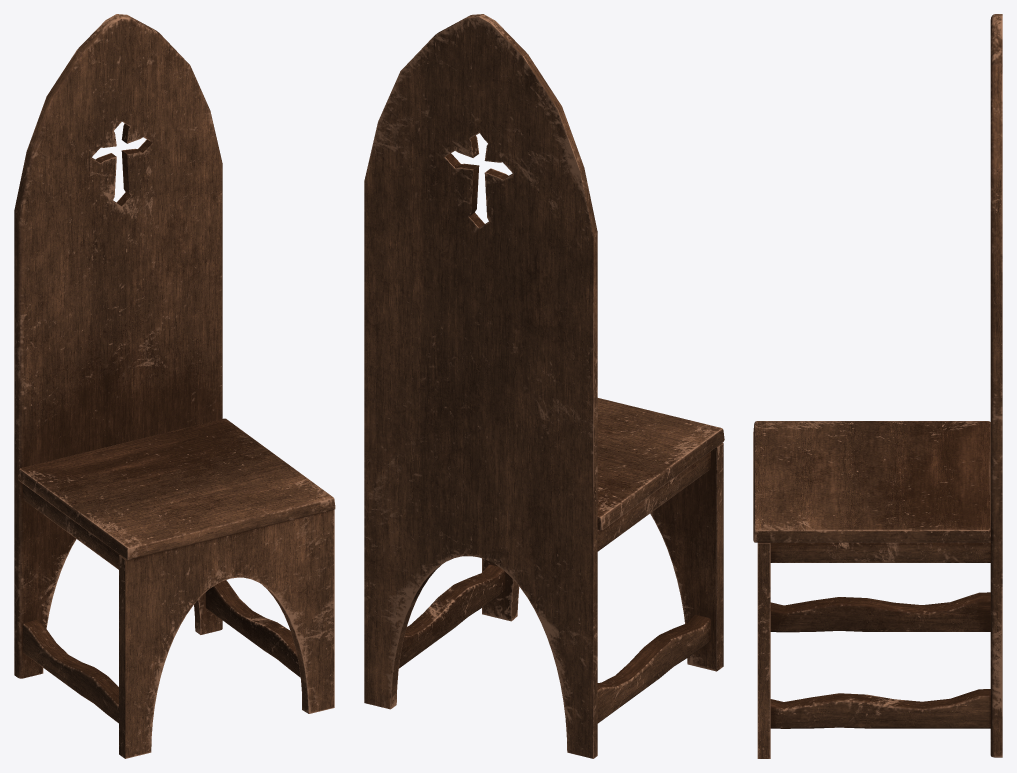
The model's file is medieval_gothic_chair.glb.
3 views of the same model, side by side, from view 1: azimuth 30°, elevation 25°; view 2: azimuth 150°, elevation 25°; view 3: azimuth 270°, elevation 25° (orthographic). The views are drawn at different scales.
Visible parts, largest first — view 1: Ghotic_Chair; view 2: Ghotic_Chair; view 3: Ghotic_Chair.
Boxes of the visible parts, <box> form: Ghotic_Chair: <box>14,14,335,758</box>; Ghotic_Chair: <box>364,14,724,758</box>; Ghotic_Chair: <box>753,14,1002,758</box>.
Bounding box in the file's own units: 0.5749 × 1.67 × 0.5479.
Materials: 1 (1 with a texture image).
